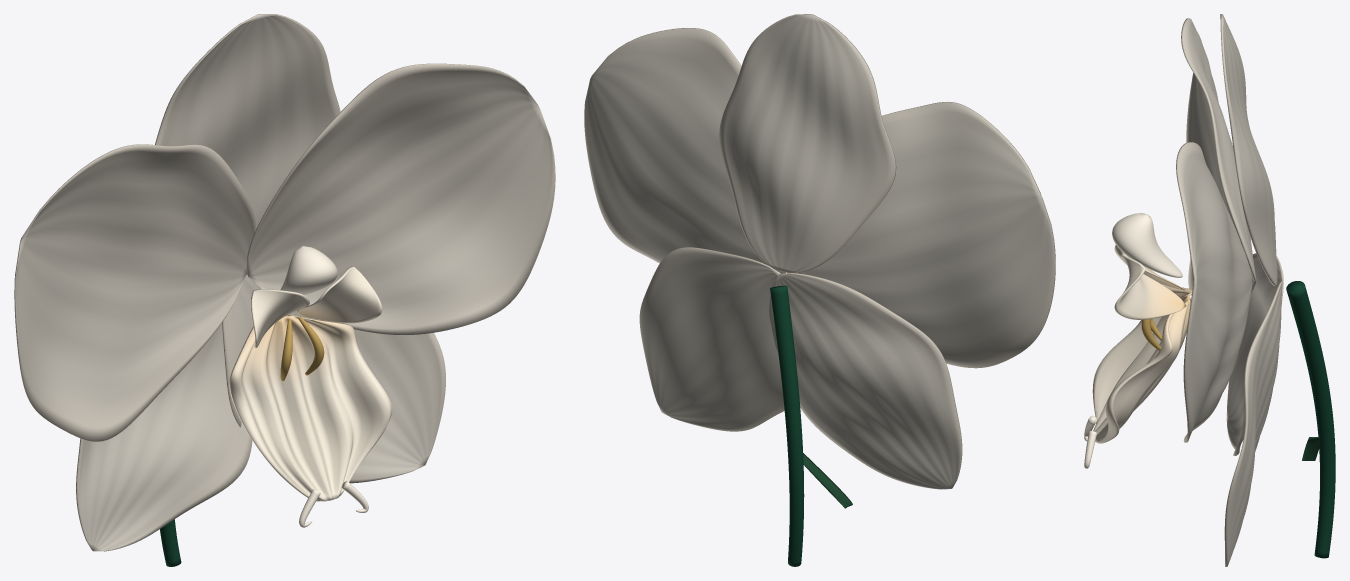
The model's file is madonna-orchid.glb.
The picture shows the model from 3 angles, left to right: view 1: azimuth 30°, elevation 25°; view 2: azimuth 150°, elevation 25°; view 3: azimuth 270°, elevation 25°; orthographic projection. The views are drawn at different scales.
Parts seen in each view (by area): view 1: petal_4, petal_3, petal_0, petal_1, Lip | ruffled apron, petal_2, Lip | right wing, Column | ivory hood, Lip | left wing, Stem | curved pedicel; view 2: petal_3, petal_0, petal_4, petal_1, petal_2, Stem | curved pedicel, Stem | folded bract; view 3: petal_4, Lip | ruffled apron, petal_3, petal_0, petal_2, Stem | curved pedicel, petal_1, Lip | right wing, Column | ivory hood, Lip | left wing, Stem | folded bract.
Boxes of the visible parts, <box> form: petal_4: <box>247,63,555,334</box>; petal_3: <box>14,144,256,441</box>; petal_0: <box>155,14,340,227</box>; petal_1: <box>76,298,253,551</box>; Lip | ruffled apron: <box>229,315,392,501</box>; petal_2: <box>222,274,445,483</box>; Lip | right wing: <box>297,266,382,323</box>; Column | ivory hood: <box>280,246,337,294</box>; Lip | left wing: <box>250,289,309,347</box>; Stem | curved pedicel: <box>160,519,181,566</box>; petal_3: <box>798,102,1055,368</box>; petal_0: <box>719,14,896,272</box>; petal_4: <box>584,28,785,273</box>; petal_1: <box>769,273,962,489</box>; petal_2: <box>639,247,799,431</box>; Stem | curved pedicel: <box>770,285,804,566</box>; Stem | folded bract: <box>803,453,852,508</box>; petal_4: <box>1176,142,1252,442</box>; Lip | ruffled apron: <box>1092,285,1192,443</box>; petal_3: <box>1181,18,1256,295</box>; petal_0: <box>1220,14,1277,285</box>; petal_2: <box>1224,281,1282,566</box>; Stem | curved pedicel: <box>1286,281,1335,558</box>; petal_1: <box>1226,253,1283,455</box>; Lip | right wing: <box>1114,254,1186,319</box>; Column | ivory hood: <box>1112,213,1182,277</box>; Lip | left wing: <box>1114,245,1185,290</box>; Stem | folded bract: <box>1302,437,1319,460</box>.
Size of the model in its own units: 3.87 by 3.99 by 1.64.
